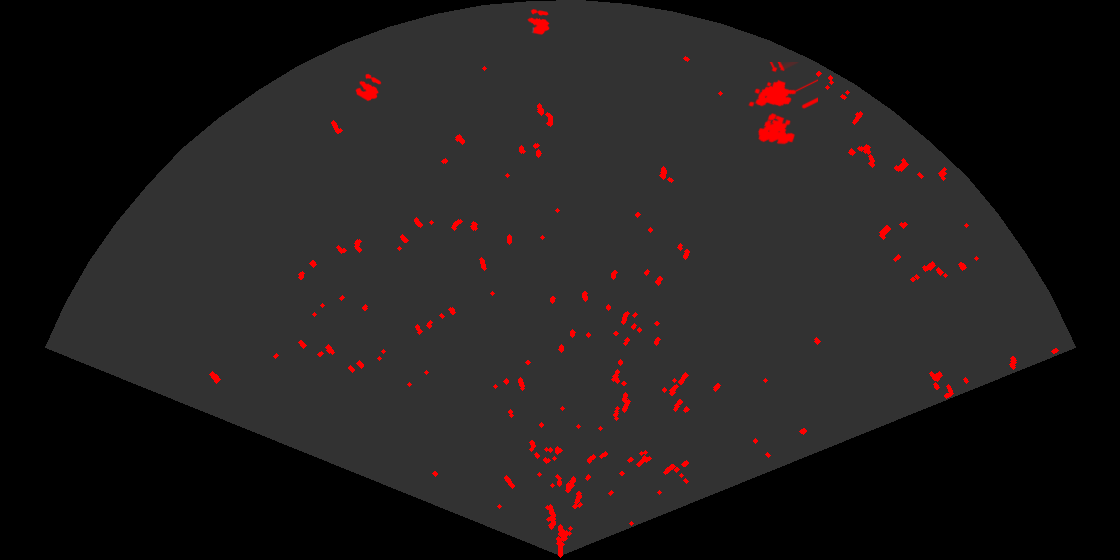ball: (354, 72, 383, 103), (526, 7, 551, 36)
cage: (747, 62, 818, 146)
